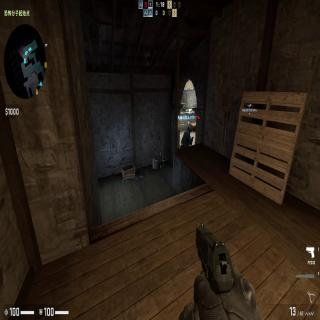CT-Head: (187, 126, 191, 135)
